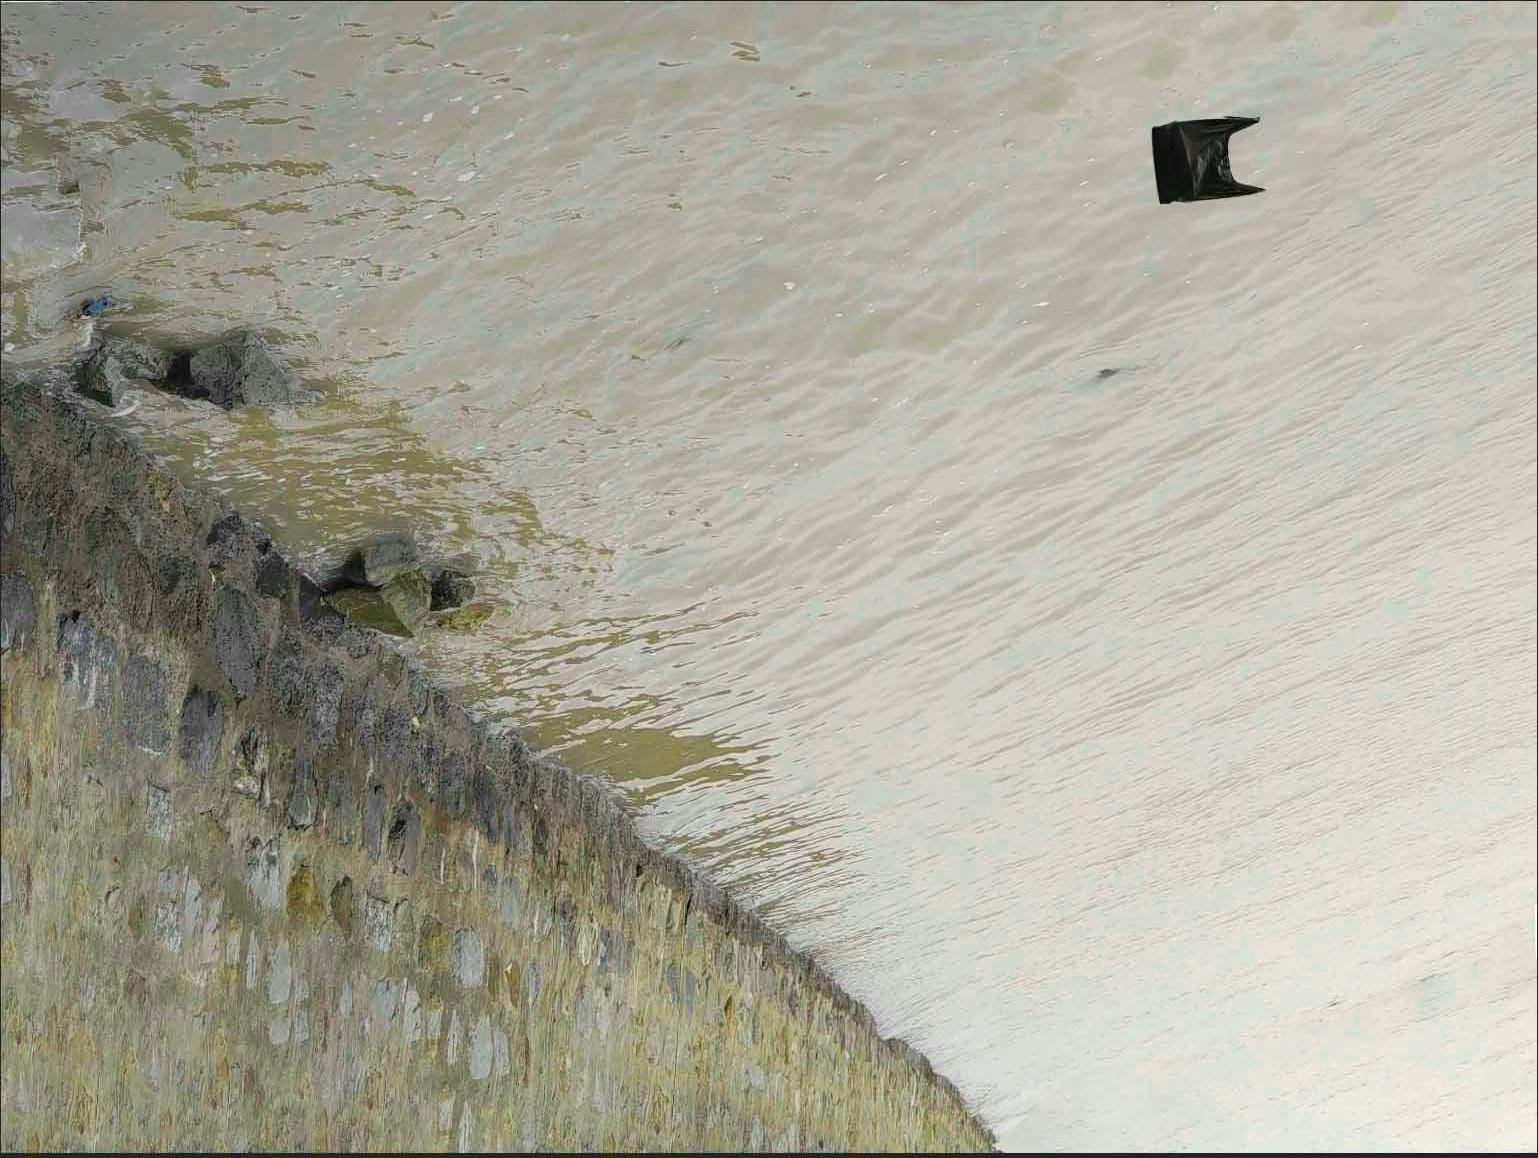Trash: (1147, 107, 1273, 213)
